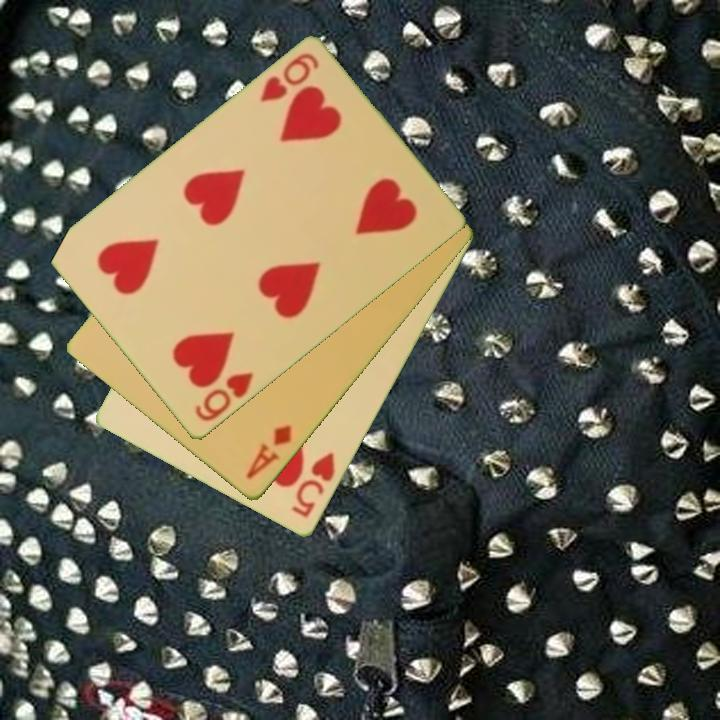5h: (288, 449, 338, 522)
6h: (191, 369, 257, 426), (256, 50, 322, 106)
Ad: (242, 421, 295, 483)
